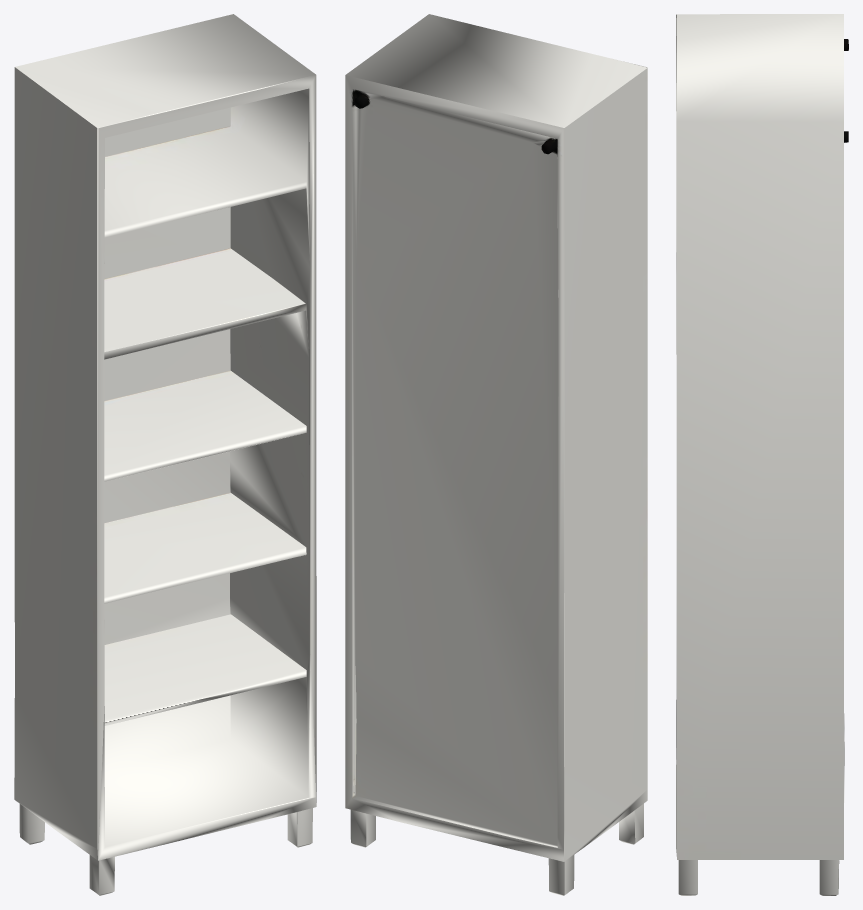
3 views of the same model, side by side, from view 1: azimuth 30°, elevation 25°; view 2: azimuth 150°, elevation 25°; view 3: azimuth 270°, elevation 25° (orthographic).
Visible parts, largest first — view 1: ProcessedMeshNode; view 2: ProcessedMeshNode; view 3: ProcessedMeshNode.
Boxes of the visible parts, bbox=[...] form: ProcessedMeshNode: bbox=[14, 14, 316, 895]; ProcessedMeshNode: bbox=[345, 14, 647, 895]; ProcessedMeshNode: bbox=[676, 14, 848, 895].
Size of the model in its own units: 0.6013 by 2.02 by 0.4076.
1 material, 1 textured.
